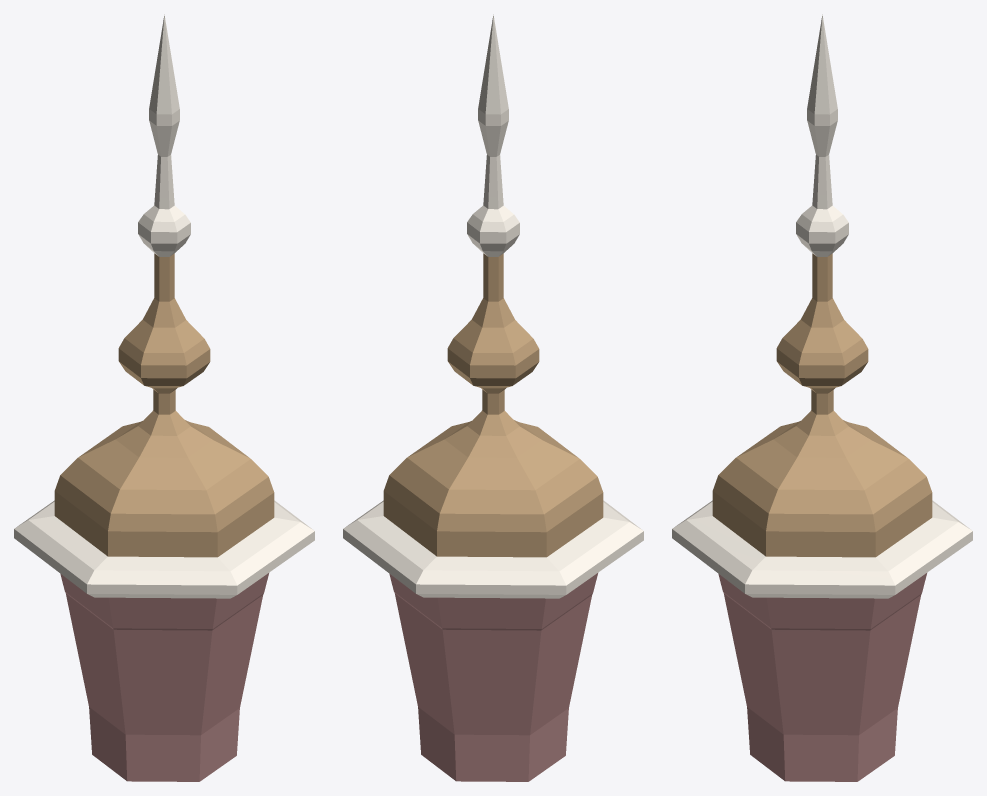
Rendered from Building_Temple_Indian_Top_03.fbx.
3 views of the same model, side by side, from view 1: azimuth 30°, elevation 25°; view 2: azimuth 150°, elevation 25°; view 3: azimuth 270°, elevation 25° (orthographic).
Parts seen in each view (by area): view 1: Building_Temple_Indian_Top_03; view 2: Building_Temple_Indian_Top_03; view 3: Building_Temple_Indian_Top_03.
Boxes of the visible parts, x1,y1,x2,y2 form: Building_Temple_Indian_Top_03: [14, 14, 314, 781]; Building_Temple_Indian_Top_03: [343, 14, 643, 781]; Building_Temple_Indian_Top_03: [672, 14, 972, 781].
Size of the model in its own units: 1530 by 4755 by 1749.
